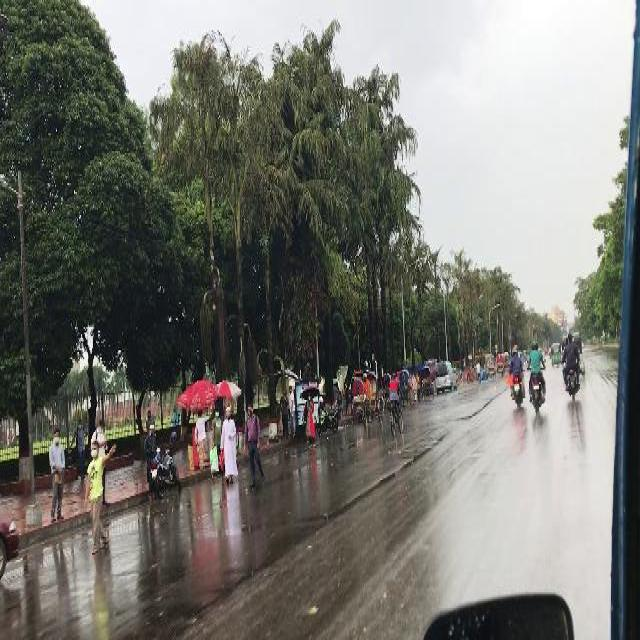10: (150, 432, 180, 503), (526, 340, 546, 418), (561, 332, 583, 400), (510, 342, 524, 412), (317, 404, 338, 438)
13: (361, 372, 382, 428), (419, 363, 433, 398), (350, 378, 360, 426), (398, 368, 408, 404), (486, 353, 496, 379), (496, 352, 504, 377), (382, 373, 388, 399), (504, 351, 508, 374)
17: (550, 342, 560, 366)
9: (434, 360, 458, 394)
Motorcycle: (388, 369, 402, 435)
